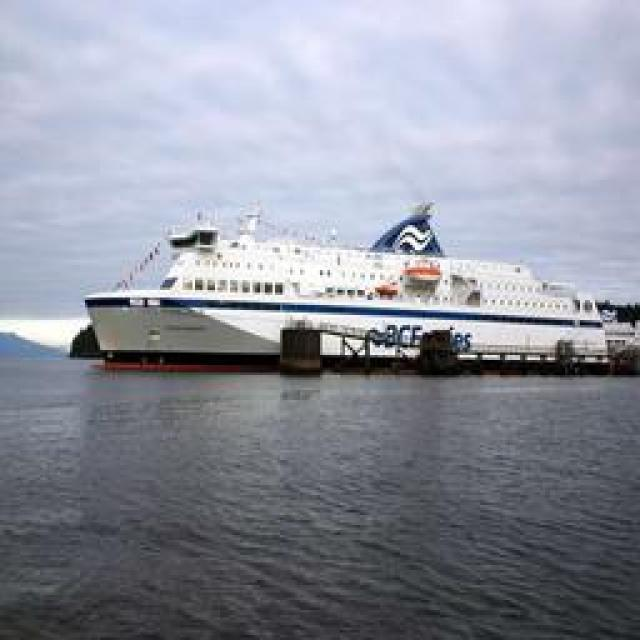ship2: (82, 202, 610, 375)
